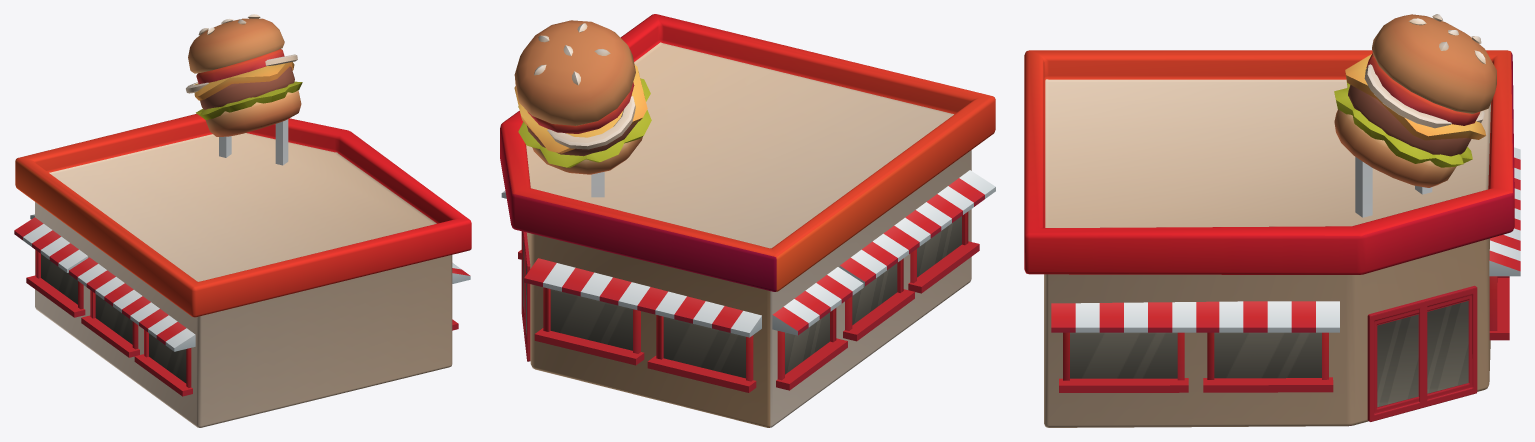
Rendered from HAMBURGUESERIA NUEVA.fbx.
The picture shows the model from 3 angles, left to right: view 1: azimuth 30°, elevation 25°; view 2: azimuth 150°, elevation 25°; view 3: azimuth 270°, elevation 25°; orthographic projection. The views are drawn at different scales.
Visible parts, largest first — view 1: Cube.003; view 2: Cube.003; view 3: Cube.003.
Boxes of the visible parts, x1,y1,x2,y2 form: Cube.003: (14, 14, 471, 427); Cube.003: (500, 14, 995, 427); Cube.003: (1024, 14, 1520, 427).
Size of the model in its own units: 1877 by 1609 by 1999.
Materials: 5 (5 with a texture image).
